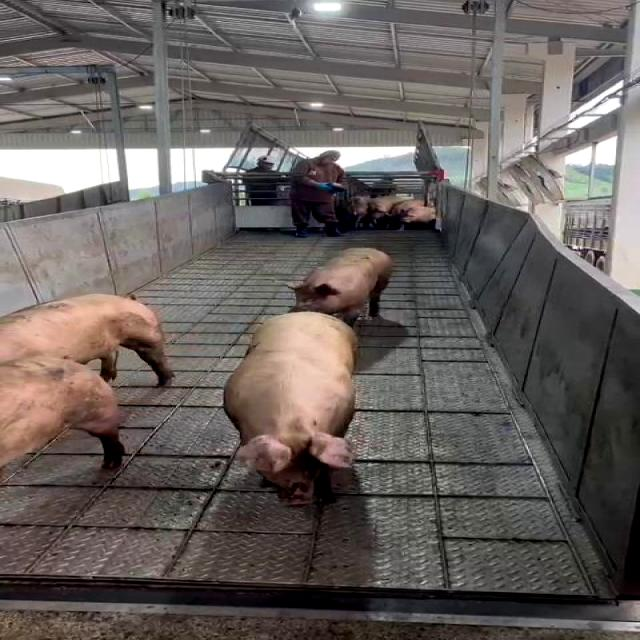pig: (225, 311, 358, 506), (0, 294, 174, 386), (0, 356, 124, 468), (289, 248, 394, 326)
